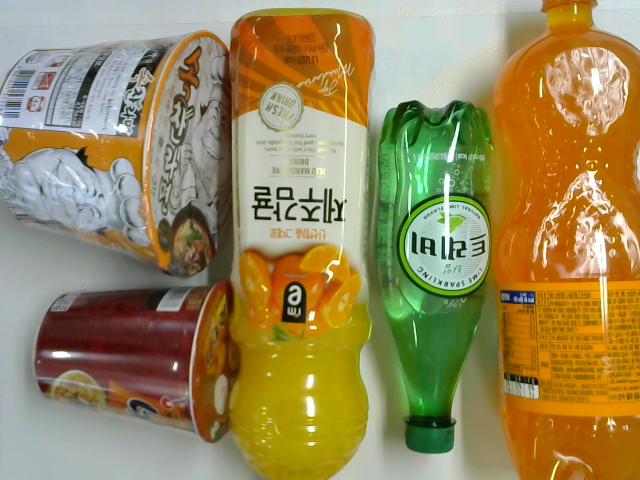Hejangchan: (1, 28, 233, 279)
Hwanta_Orange_1.5L: (487, 1, 640, 477)
Jeju_Tangerine_1.5L: (222, 2, 379, 480)
Raccoon: (34, 277, 240, 445)
Treviraim_500ml: (372, 97, 495, 454)
